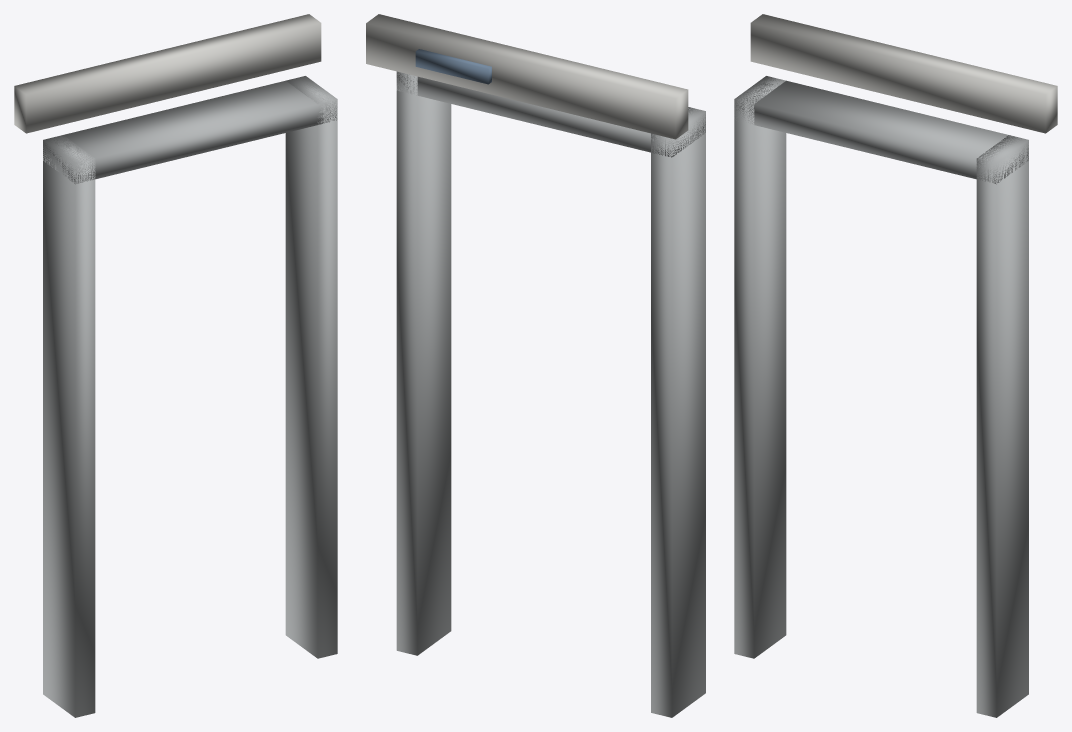
The model's file is doorway_hospital_w96_h220_d24.glb.
3 renders of one model, left to right at view 1: azimuth 30°, elevation 25°; view 2: azimuth 150°, elevation 25°; view 3: azimuth 330°, elevation 25°, orthographic. The views are drawn at different scales.
Visible parts, largest first — view 1: world; view 2: world; view 3: world.
Boxes of the visible parts, box(x1,y1,x2,y2) form: world: box(14, 14, 337, 717); world: box(366, 14, 705, 717); world: box(734, 14, 1057, 717).
Size of the model in its own units: 1.27 by 2.49 by 0.36.
